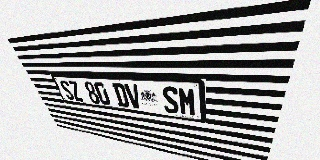0: (93, 82, 111, 105)
8: (83, 81, 101, 104)
D: (112, 83, 130, 108)
M: (178, 87, 196, 116)
S: (161, 86, 180, 114), (59, 80, 76, 101)
V: (124, 84, 143, 109)
Z: (67, 81, 84, 102)
